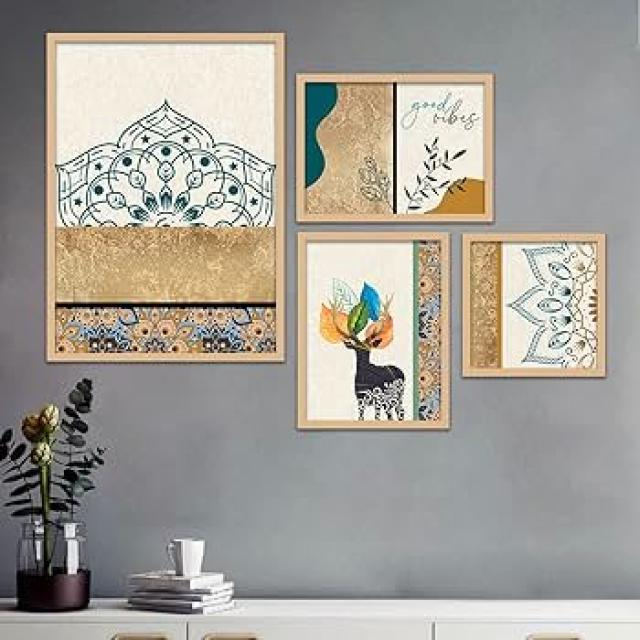painting: (48, 32, 285, 361), (299, 231, 450, 429), (297, 71, 494, 222), (462, 234, 605, 379)
